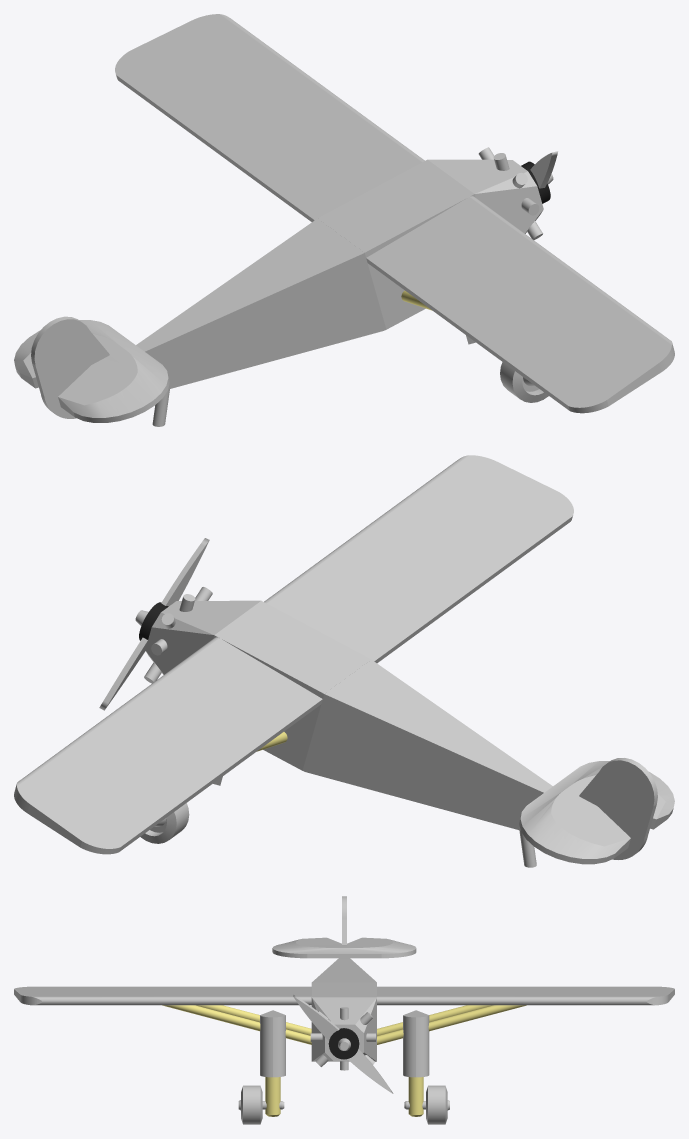
The picture shows the model from 3 angles, top to bottom: view 1: azimuth 30°, elevation 25°; view 2: azimuth 150°, elevation 25°; view 3: azimuth 270°, elevation 25°; orthographic projection. The views are drawn at different scales.
Visible parts, largest first — view 1: Mesh5_body1_Group1_Model; view 2: Mesh5_body1_Group1_Model; view 3: Mesh5_body1_Group1_Model.
Part boxes in pixels (x1=…): Mesh5_body1_Group1_Model: x1=14, y1=14, x2=674, y2=426; Mesh5_body1_Group1_Model: x1=14, y1=455, x2=674, y2=867; Mesh5_body1_Group1_Model: x1=14, y1=896, x2=674, y2=1124.
Size of the model in its own units: 0.64 by 0.2483 by 1.01.
